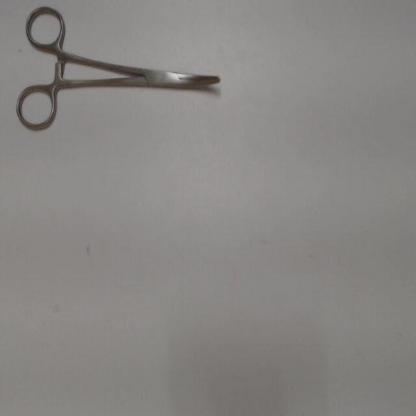Crile Artery Forceps: (11, 1, 229, 138)
